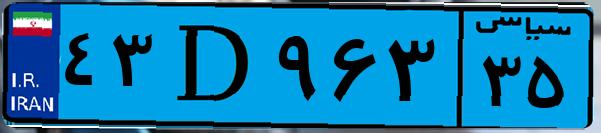3: (385, 28, 445, 110), (475, 38, 525, 113), (110, 28, 158, 98)
4: (57, 26, 110, 100)
5: (525, 38, 570, 115)
6: (330, 28, 385, 110)
9: (270, 28, 330, 110)
D: (158, 12, 270, 120)
